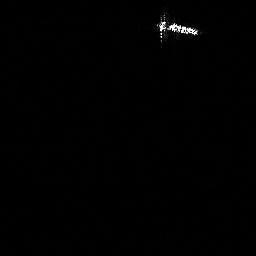ship: (150, 16, 207, 48)
